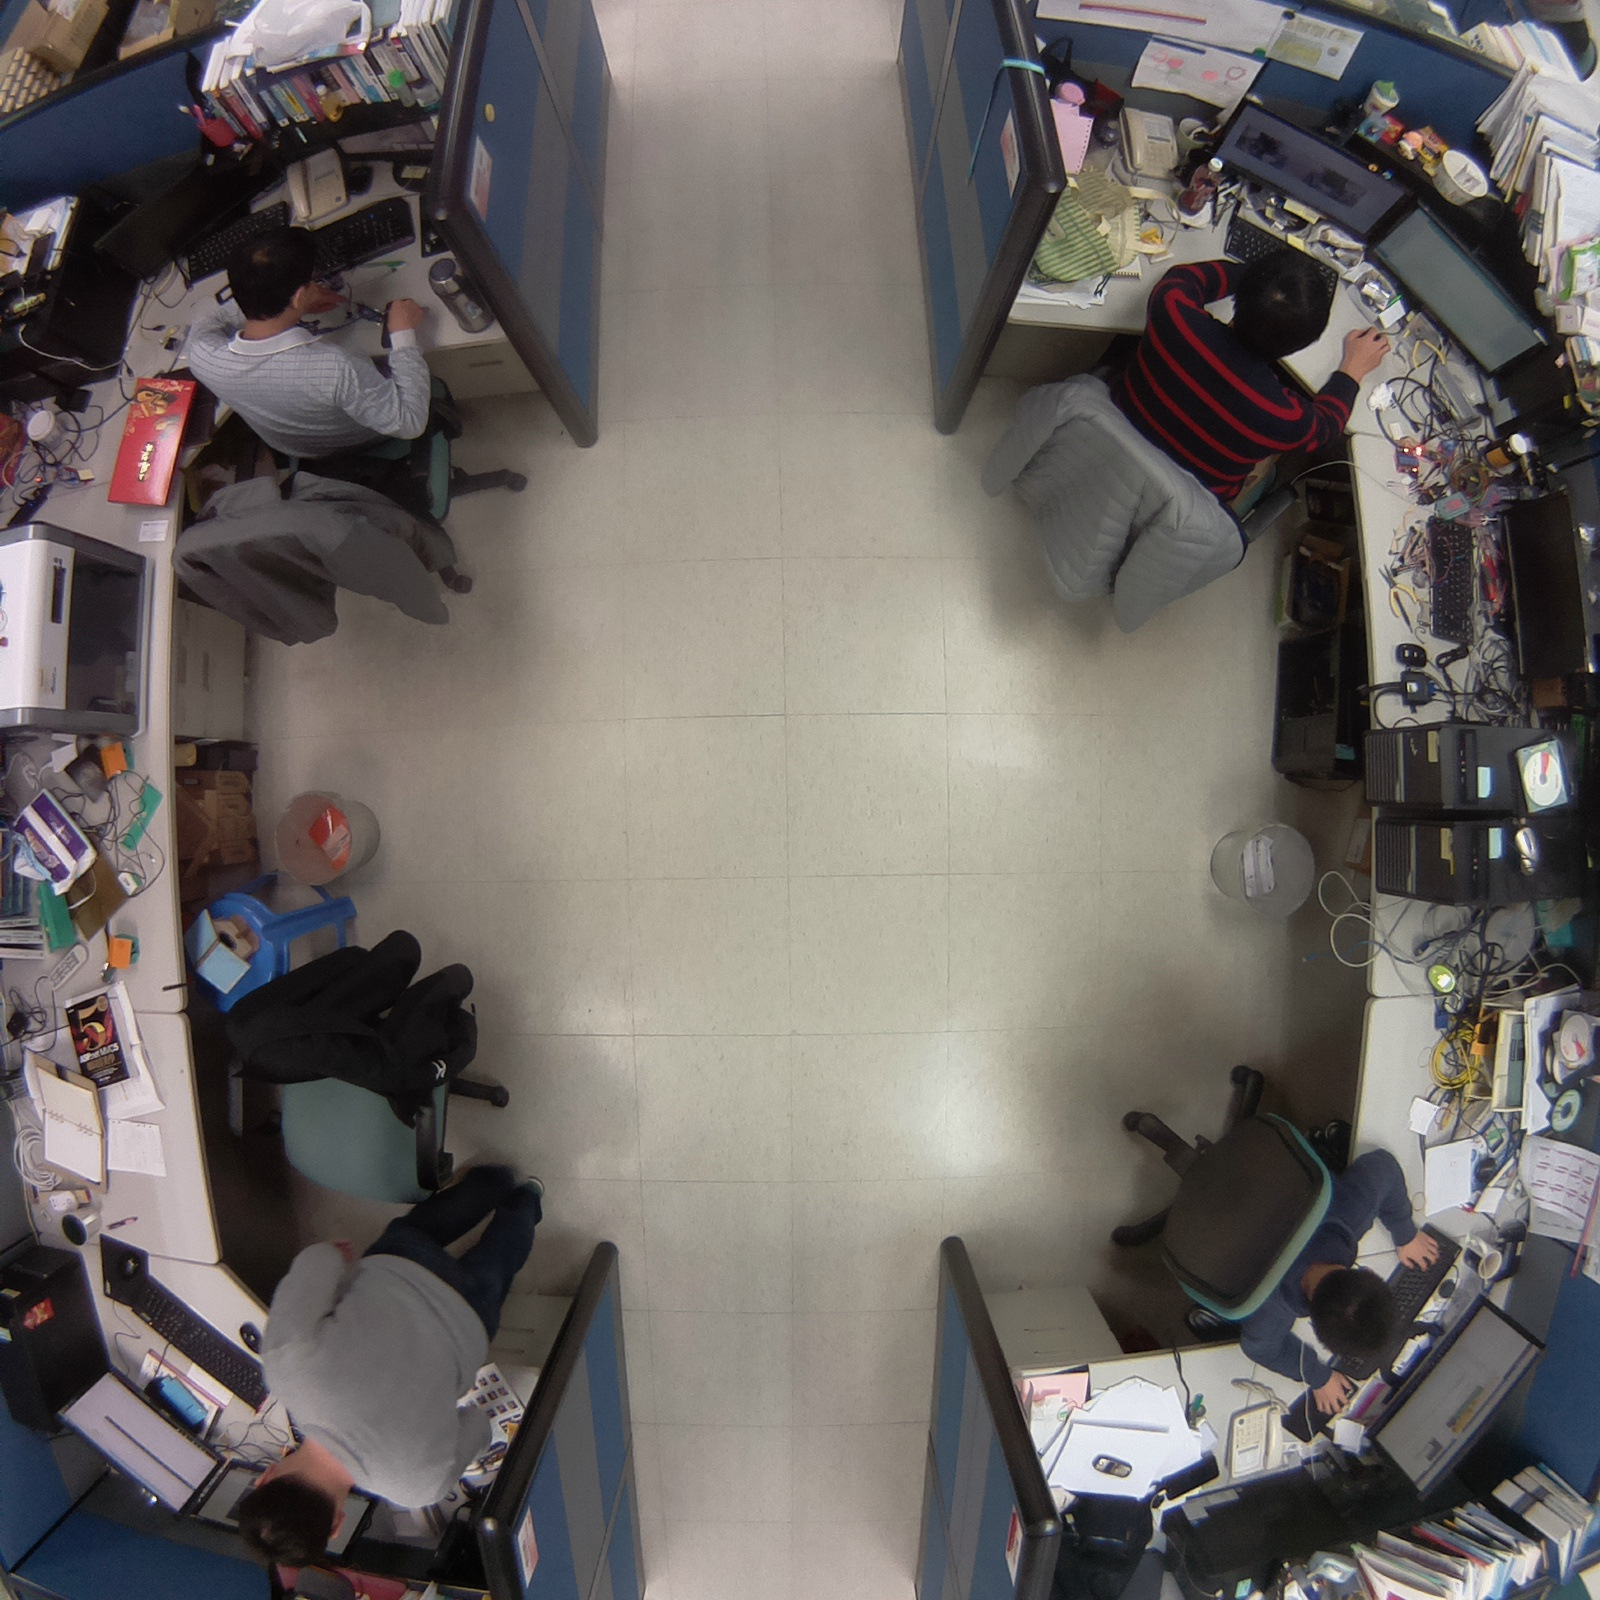chair: (201, 911, 519, 1217)
head: (1225, 236, 1340, 359), (1297, 1257, 1412, 1380), (238, 1457, 349, 1574), (219, 212, 321, 331)
sitting: (950, 241, 1393, 645), (158, 220, 540, 663), (231, 1134, 553, 1580), (1083, 1037, 1439, 1420)
